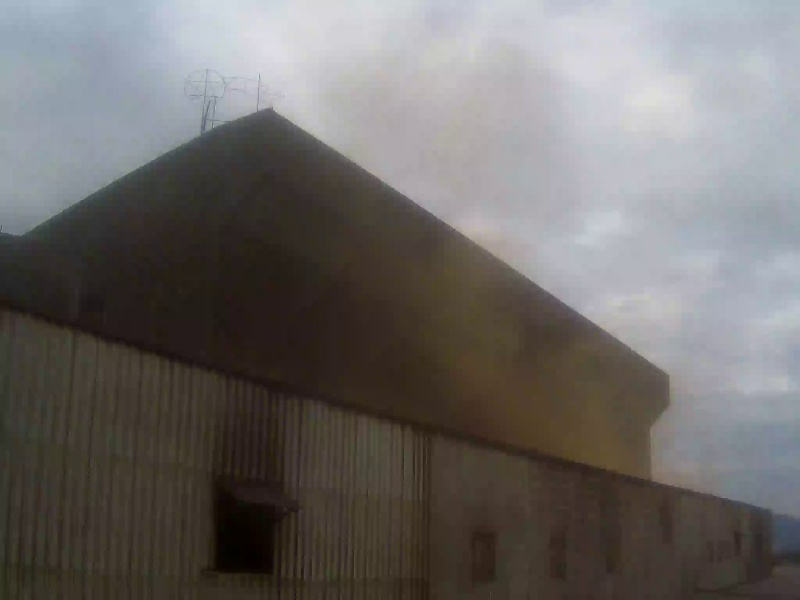Pessimo: (400, 201, 668, 474)
